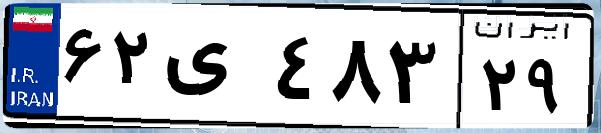2: (475, 38, 525, 113), (110, 28, 158, 98)
3: (385, 28, 445, 110)
4: (270, 28, 330, 110)
6: (57, 26, 110, 100)
8: (330, 28, 385, 110)
9: (525, 38, 570, 115)
ی: (158, 20, 270, 120)
